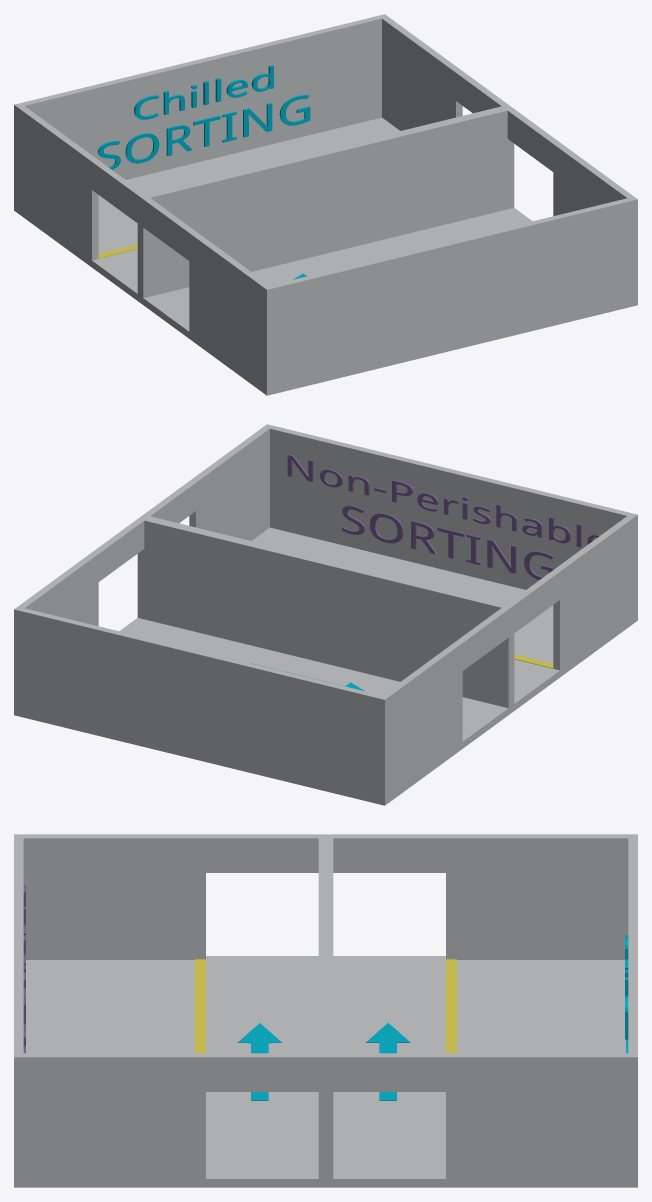
The model's file is CrossDock-Sorting.glb.
3 renders of one model, top to bottom at view 1: azimuth 30°, elevation 25°; view 2: azimuth 150°, elevation 25°; view 3: azimuth 270°, elevation 25°, orthographic. The views are drawn at different scales.
Parts seen in each view (by area): view 1: Mesh_Mesh_head_geo.001_lambert2SG.001; view 2: Mesh_Mesh_head_geo.001_lambert2SG.001; view 3: Mesh_Mesh_head_geo.001_lambert2SG.001.
Part boxes in pixels (bbox=[...]): Mesh_Mesh_head_geo.001_lambert2SG.001: bbox=[14, 14, 637, 395]; Mesh_Mesh_head_geo.001_lambert2SG.001: bbox=[14, 424, 637, 805]; Mesh_Mesh_head_geo.001_lambert2SG.001: bbox=[14, 834, 637, 1187].
Bounding box in the file's own units: 110 × 30 × 130.
